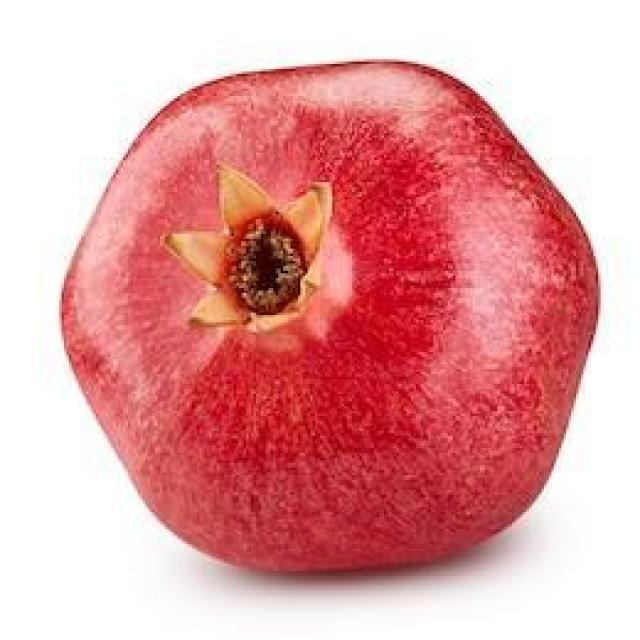Pomegranate: (51, 49, 606, 576)
